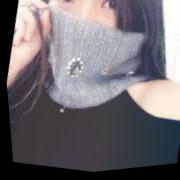WRONG: (27, 1, 145, 98)
